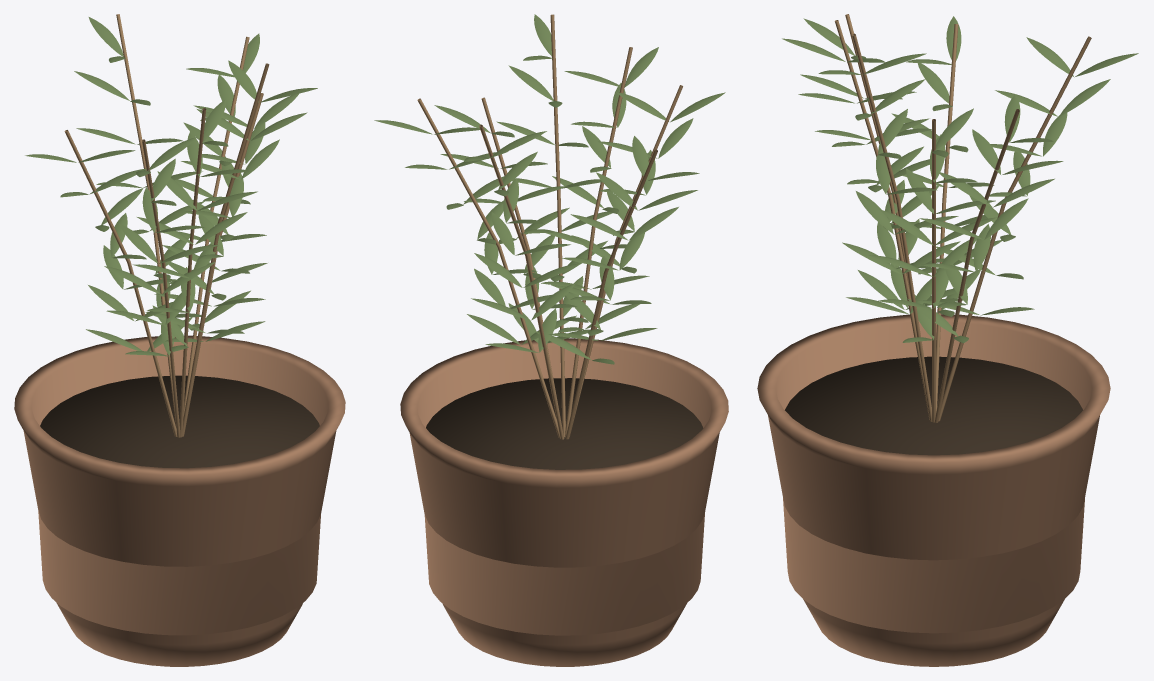
Rendered from kitchen-herbs.glb.
The picture shows the model from 3 angles, left to right: view 1: azimuth 30°, elevation 25°; view 2: azimuth 150°, elevation 25°; view 3: azimuth 270°, elevation 25°; orthographic projection. The views are drawn at different scales.
Visible parts, largest first — view 1: Mood stoneware clay, Mood olive leaf, Mood soil, Mood oak board; view 2: Mood stoneware clay, Mood olive leaf, Mood soil, Mood oak board; view 3: Mood stoneware clay, Mood olive leaf, Mood soil, Mood oak board.
Boxes of the visible parts, x1,y1,x2,y2 form: Mood stoneware clay: (14, 335, 345, 666); Mood olive leaf: (25, 17, 317, 356); Mood soil: (40, 375, 319, 468); Mood oak board: (64, 14, 269, 437); Mood stoneware clay: (400, 338, 728, 666); Mood olive leaf: (374, 14, 725, 364); Mood soil: (426, 378, 703, 469); Mood oak board: (417, 14, 682, 439); Mood stoneware clay: (757, 314, 1110, 666); Mood olive leaf: (782, 16, 1138, 343); Mood soil: (785, 356, 1082, 455); Mood oak board: (834, 14, 1091, 422).
Size of the model in its own units: 0.2118 by 0.3993 by 0.2272.
